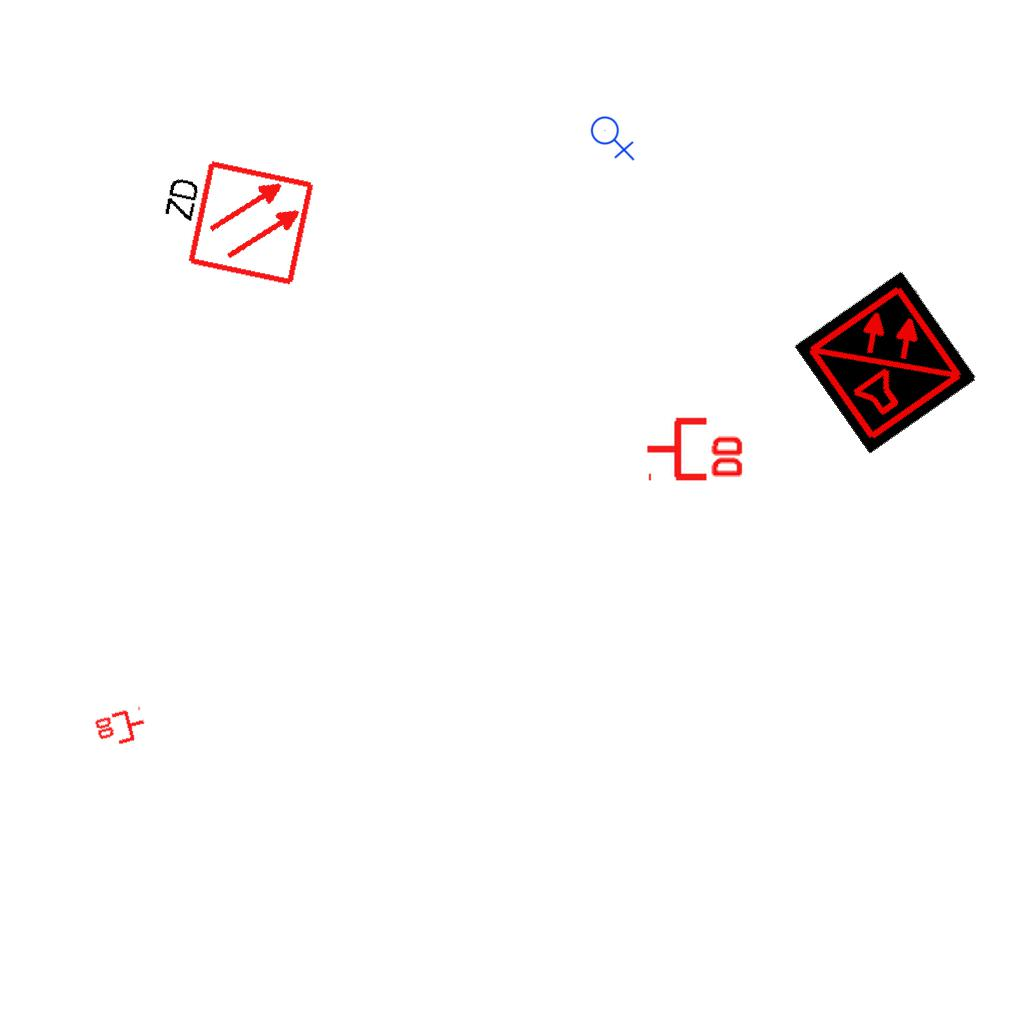Datenanschluss_zweifach: (644, 413, 747, 482), (91, 705, 151, 752)
Elektroanschluss_allgemein_230V_Geraeteanschlussdose_230V: (590, 112, 637, 161)
OKW_Multisensormelder_(Kombination_optischer_Rauch-Kahlenmonoxid_Waerme-Melder): (794, 270, 978, 454)
ZD_Melder_in_Zwischendecke_mit_Revisionsoeffnung_mind_40_x_40_cm: (147, 149, 317, 292)
